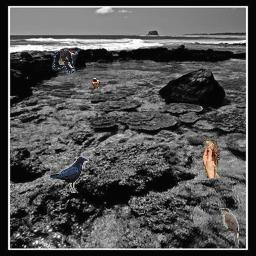Crow: (49, 156, 89, 193)
Cuckoo: (219, 208, 239, 248), (203, 138, 220, 178)
Swallow: (90, 78, 100, 88)
Woodpecker: (51, 50, 78, 74)
